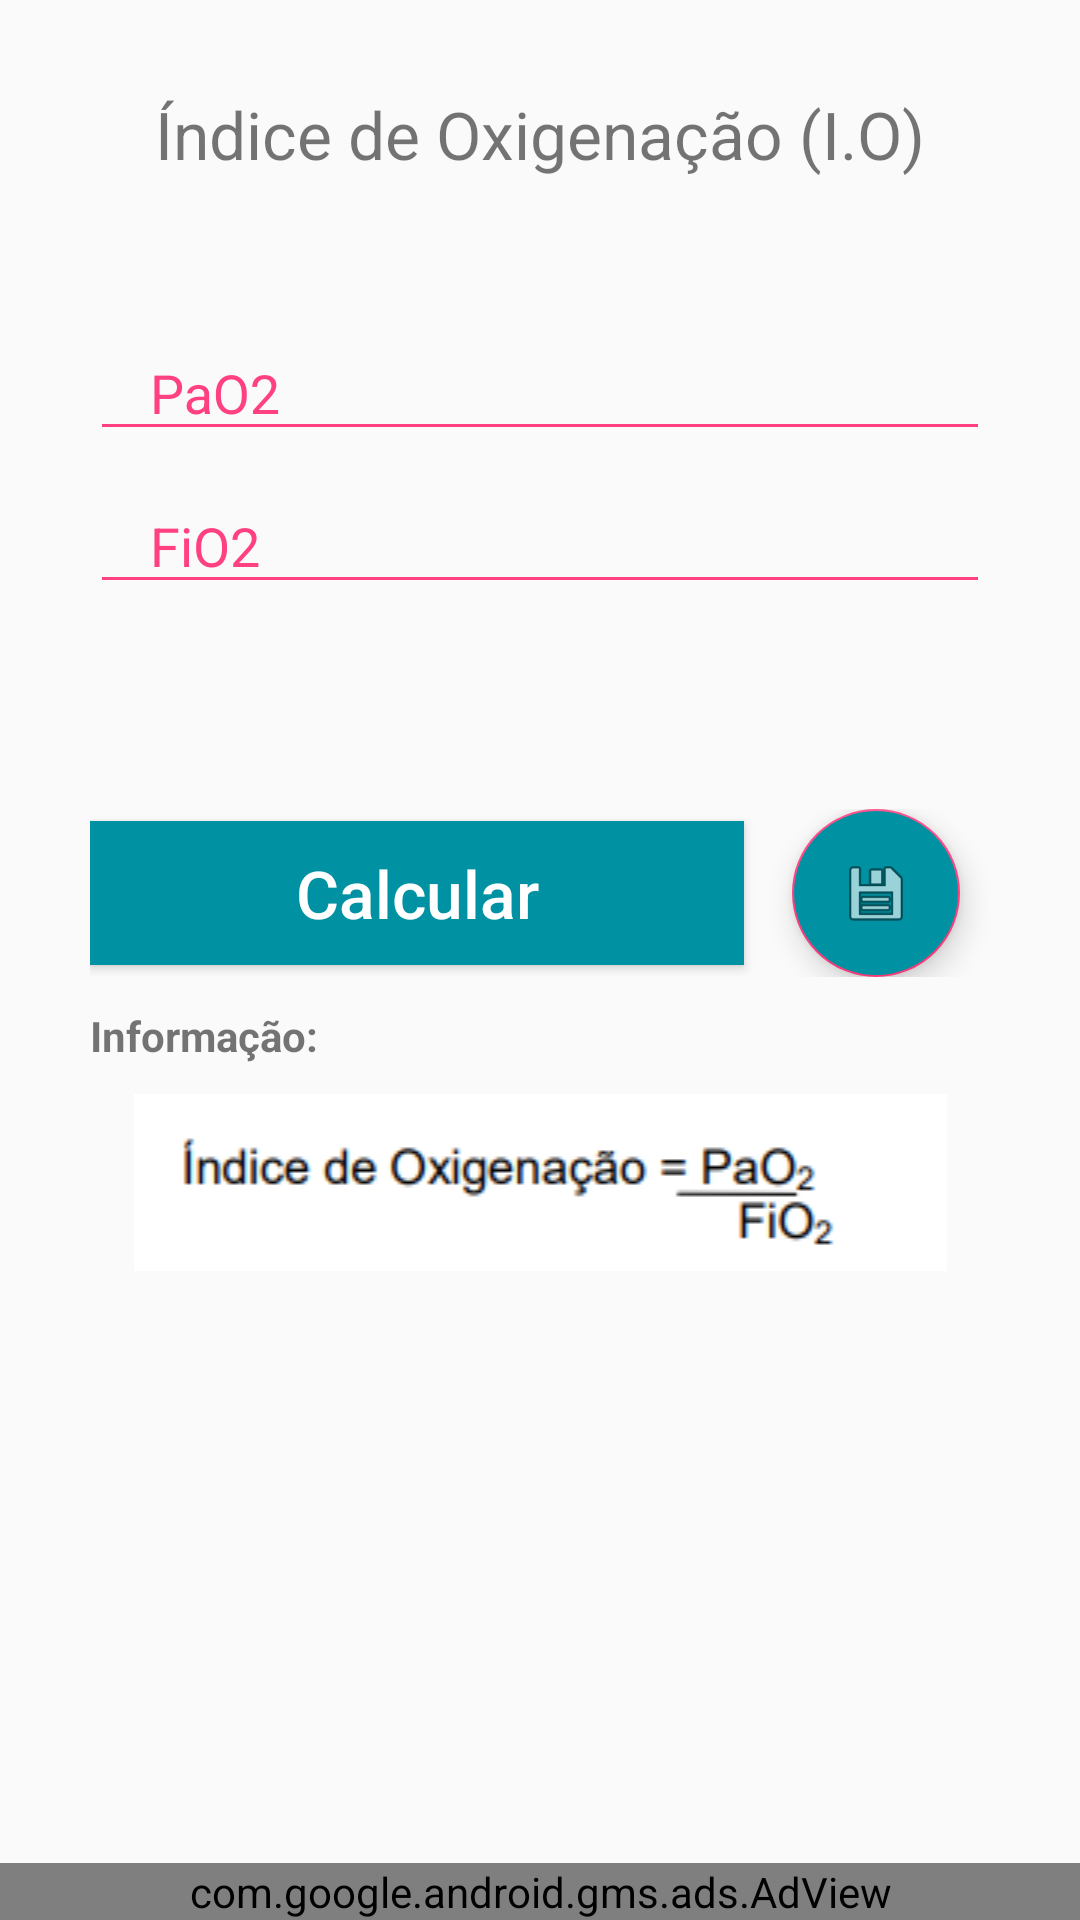

Where icons sit on this 1080 × 1920 app screen, as (x1, y1, x2, y2):
save: (792, 809, 960, 977)
